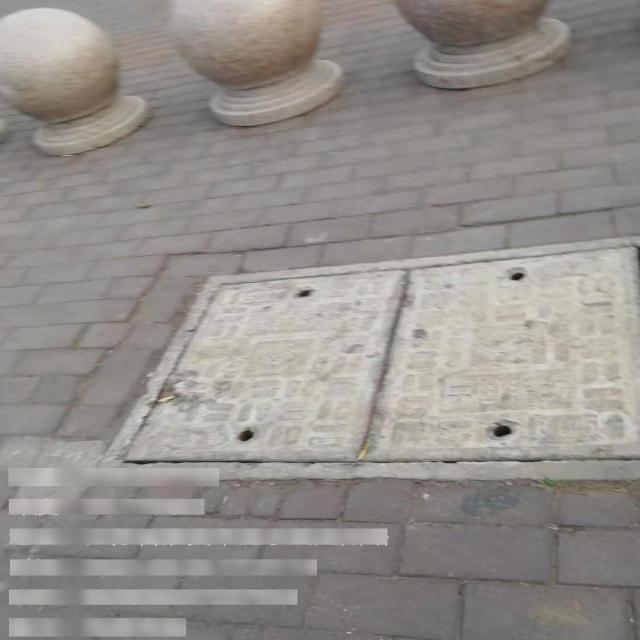Good: (100, 235, 640, 480)
